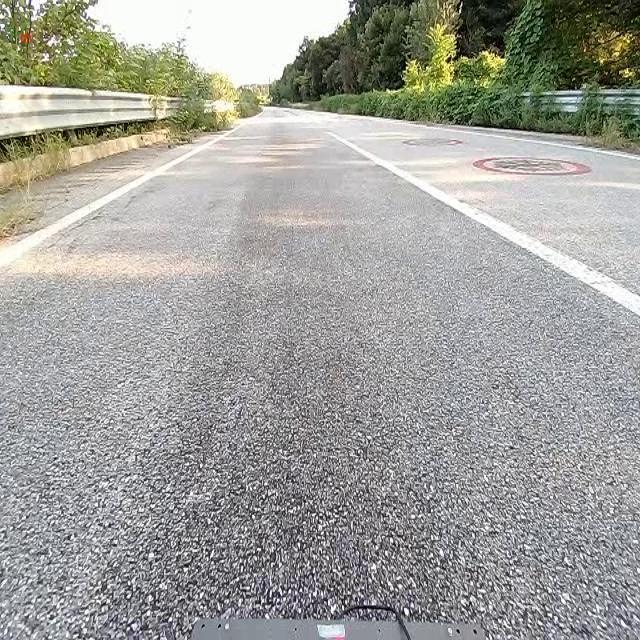Lane: (325, 125, 638, 318), (331, 131, 639, 316), (0, 127, 243, 278), (0, 128, 237, 272)
